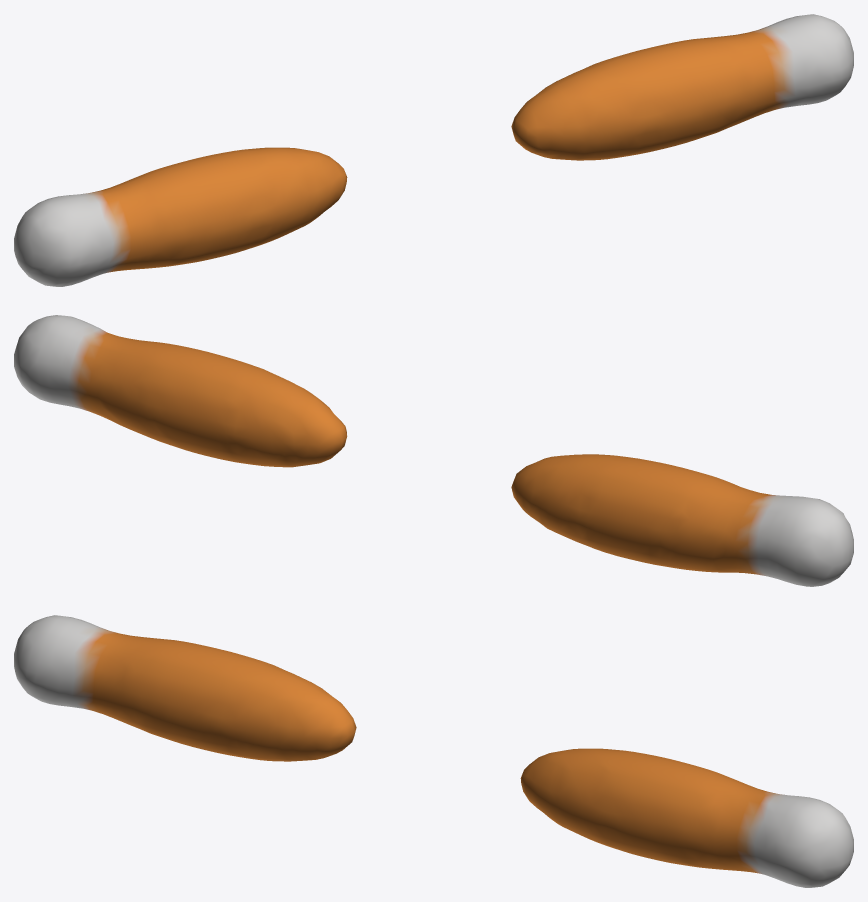
The model's file is Fox Arm.fbx.
3 renders of one model, top to bottom at view 1: azimuth 30°, elevation 25°; view 2: azimuth 150°, elevation 25°; view 3: azimuth 330°, elevation 25°, orthographic.
Visible parts, largest first — view 1: Left Fox Arm; view 2: Left Fox Arm; view 3: Left Fox Arm.
Part boxes in pixels (<box>): Left Fox Arm: <box>14,14,853,286</box>; Left Fox Arm: <box>14,315,853,586</box>; Left Fox Arm: <box>14,615,853,887</box>.
Bounding box in the file's own units: 5.06 × 0.5362 × 0.5338.
